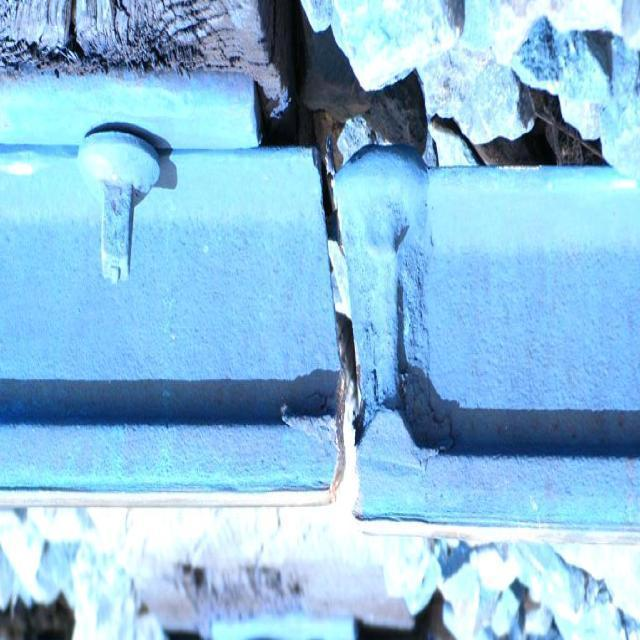broken_rail_high: (306, 141, 382, 526)
